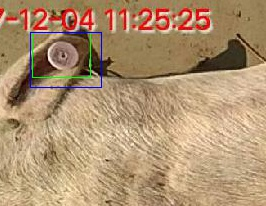text: (32, 32, 90, 77)
